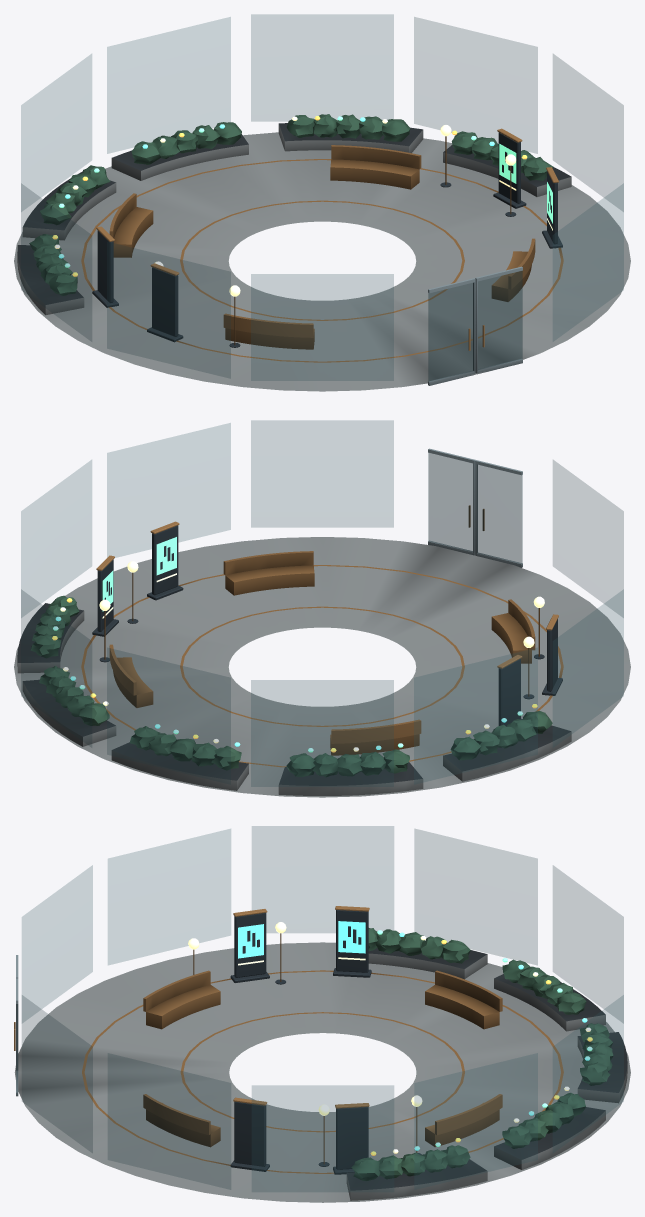
The model's file is lobby-graph.lod0.glb.
The picture shows the model from 3 angles, top to bottom: view 1: azimuth 30°, elevation 25°; view 2: azimuth 150°, elevation 25°; view 3: azimuth 270°, elevation 25°; orthographic projection.
Parts seen in each view (by area): view 1: structure, door_0_l, door_0_r; view 2: structure, door_0_l, door_0_r; view 3: structure.
Boxes of the visible parts, x1,y1,x2,y2 form: structure: (14, 14, 630, 391); door_0_l: (428, 278, 475, 385); door_0_r: (475, 266, 522, 374); structure: (14, 420, 630, 797); door_0_l: (475, 460, 522, 567); door_0_r: (428, 448, 475, 555); structure: (14, 826, 630, 1202).
Bounding box in the file's own units: 18.1 × 3.82 × 18.12.
